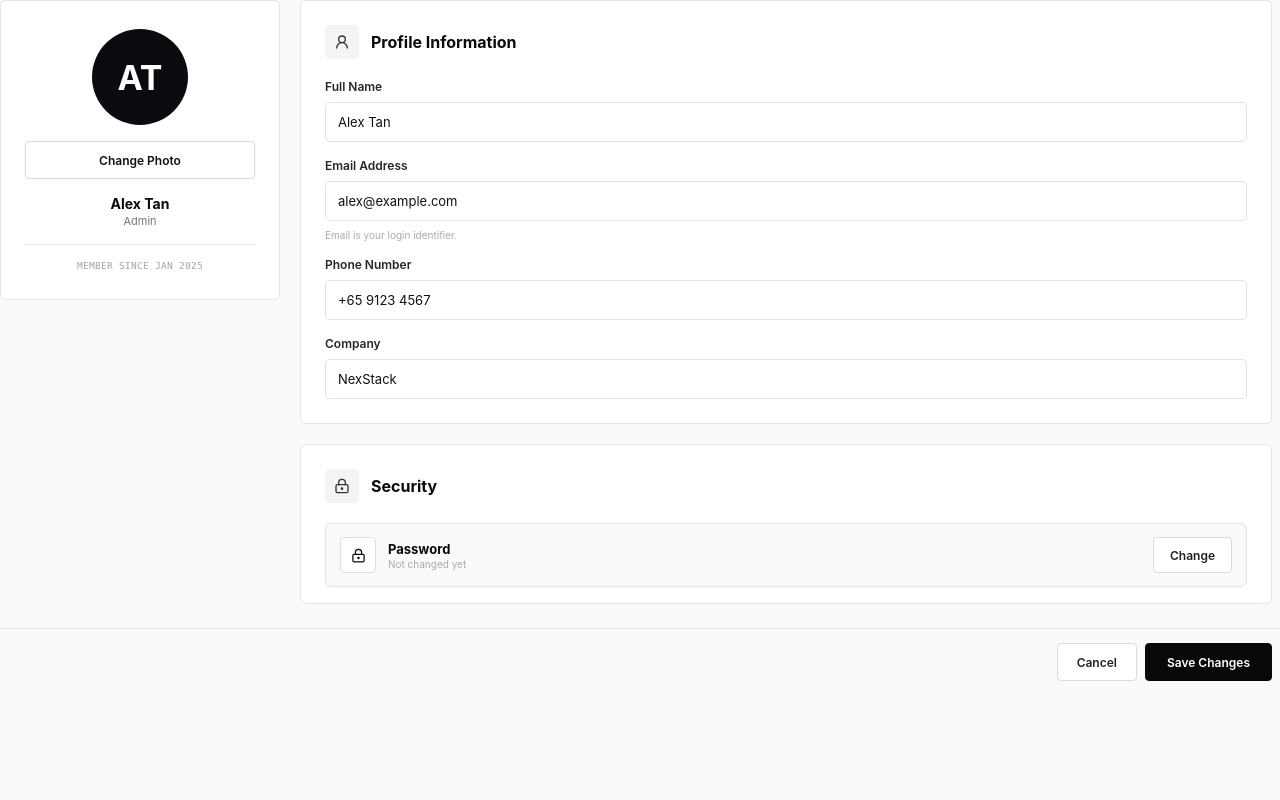
Test: ProfileScreen › loads and saves edited profile details
The width and height of the screenshot is (1280, 800).
Replace the text in the field labelled "Full Name" with "Alexandra Tan" at {"x": 786, "y": 122}, box x1=325 y1=102 x2=1247 y2=142
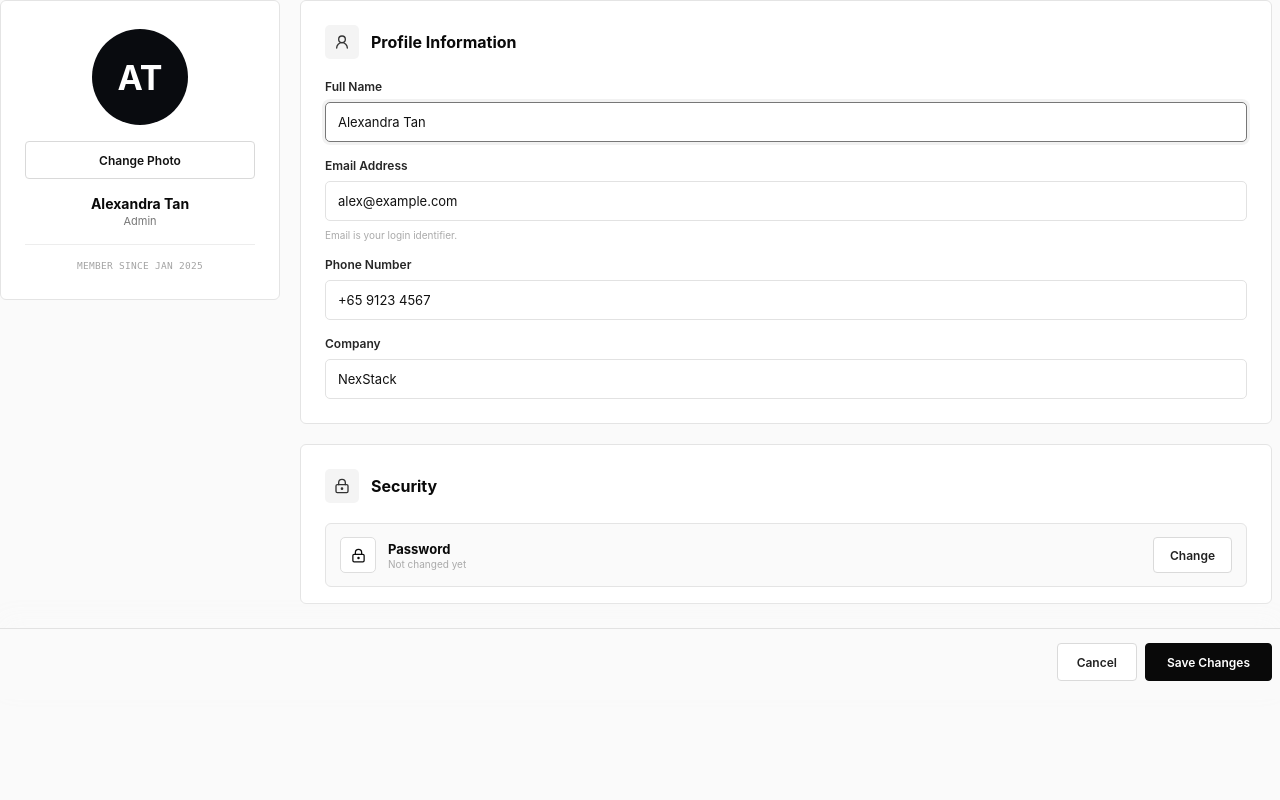
Click the button "Save Changes" at {"x": 1208, "y": 662}, box x1=1145 y1=643 x2=1272 y2=681
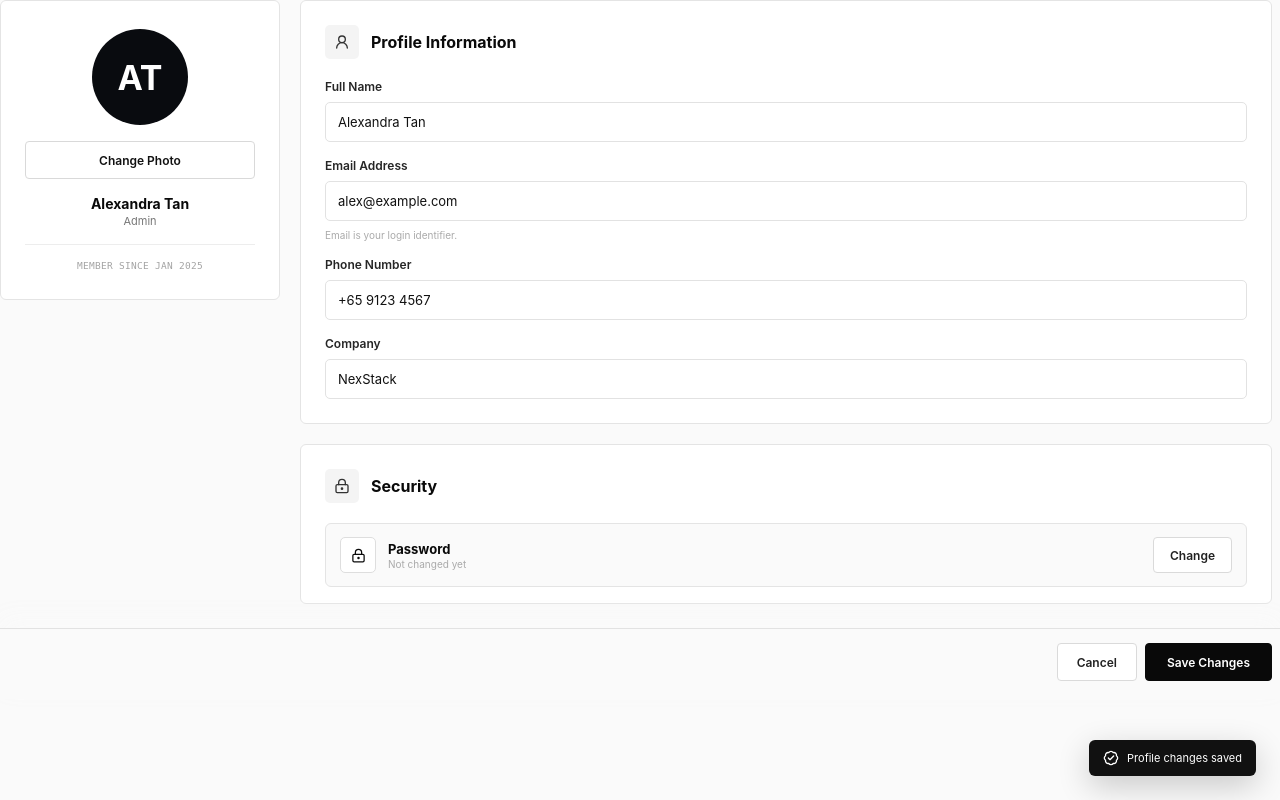
expect the message reads "Profile changes saved": met, box x1=1127 y1=751 x2=1242 y2=765
